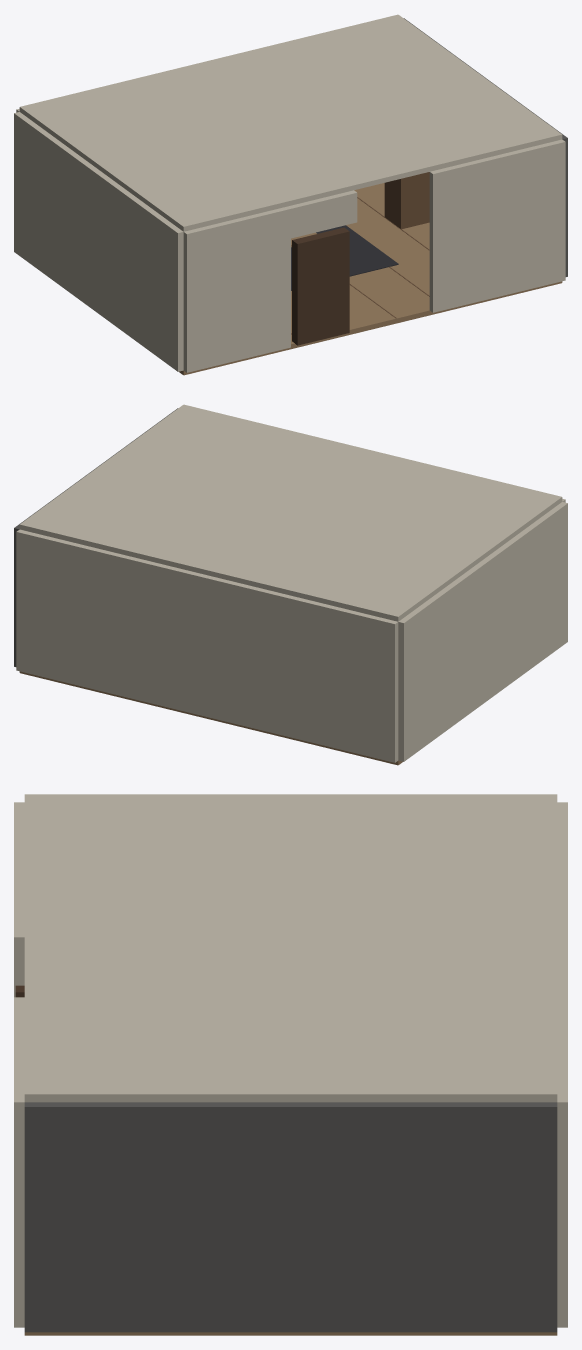
Rendered from INT_Apartment_ND_v001.glb.
The picture shows the model from 3 angles, top to bottom: view 1: azimuth 30°, elevation 25°; view 2: azimuth 150°, elevation 25°; view 3: azimuth 270°, elevation 25°; orthographic projection. The views are drawn at different scales.
Parts seen in each view (by area): view 1: INT_Apartment_ND_v001; view 2: INT_Apartment_ND_v001; view 3: INT_Apartment_ND_v001.
Part boxes in pixels (left/top/right/bottom): INT_Apartment_ND_v001: left=14, top=14, right=567, bottom=375; INT_Apartment_ND_v001: left=14, top=404, right=567, bottom=765; INT_Apartment_ND_v001: left=14, top=794, right=567, bottom=1335.
Size of the model in its own units: 8.24 by 3 by 6.24.
